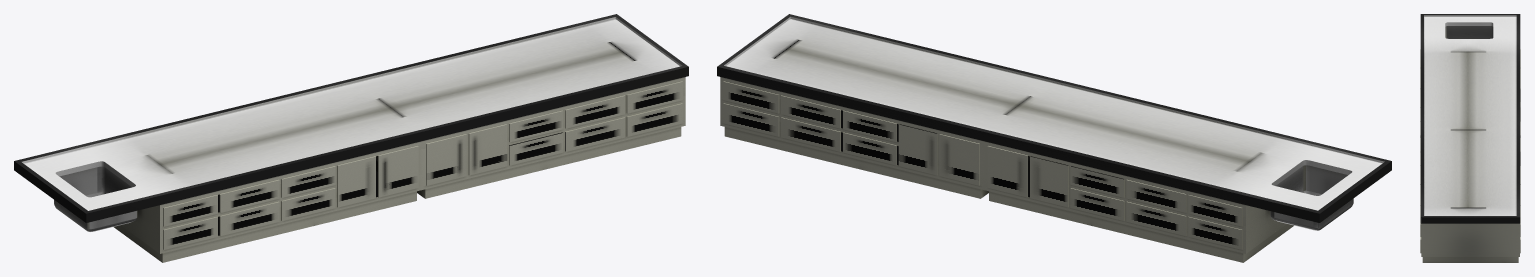
Rendered from bancada.obj.
3 renders of one model, left to right at view 1: azimuth 30°, elevation 25°; view 2: azimuth 150°, elevation 25°; view 3: azimuth 270°, elevation 25°, orthographic. The views are drawn at different scales.
Visible parts, largest first — view 1: bancada; view 2: bancada; view 3: bancada.
Part boxes in pixels (left/top/right/bottom): bancada: left=14, top=14, right=688, bottom=262; bancada: left=717, top=14, right=1391, bottom=262; bancada: left=1420, top=14, right=1520, bottom=262.
Bounding box in the file's own units: 35.62 × 3.9 × 7.42.
5 materials, 4 textured.
